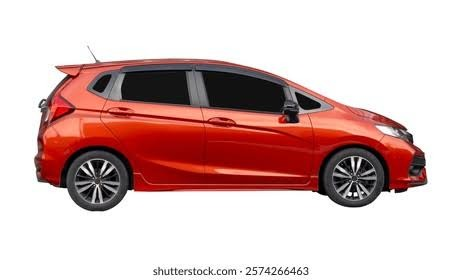car: (34, 53, 431, 209)
